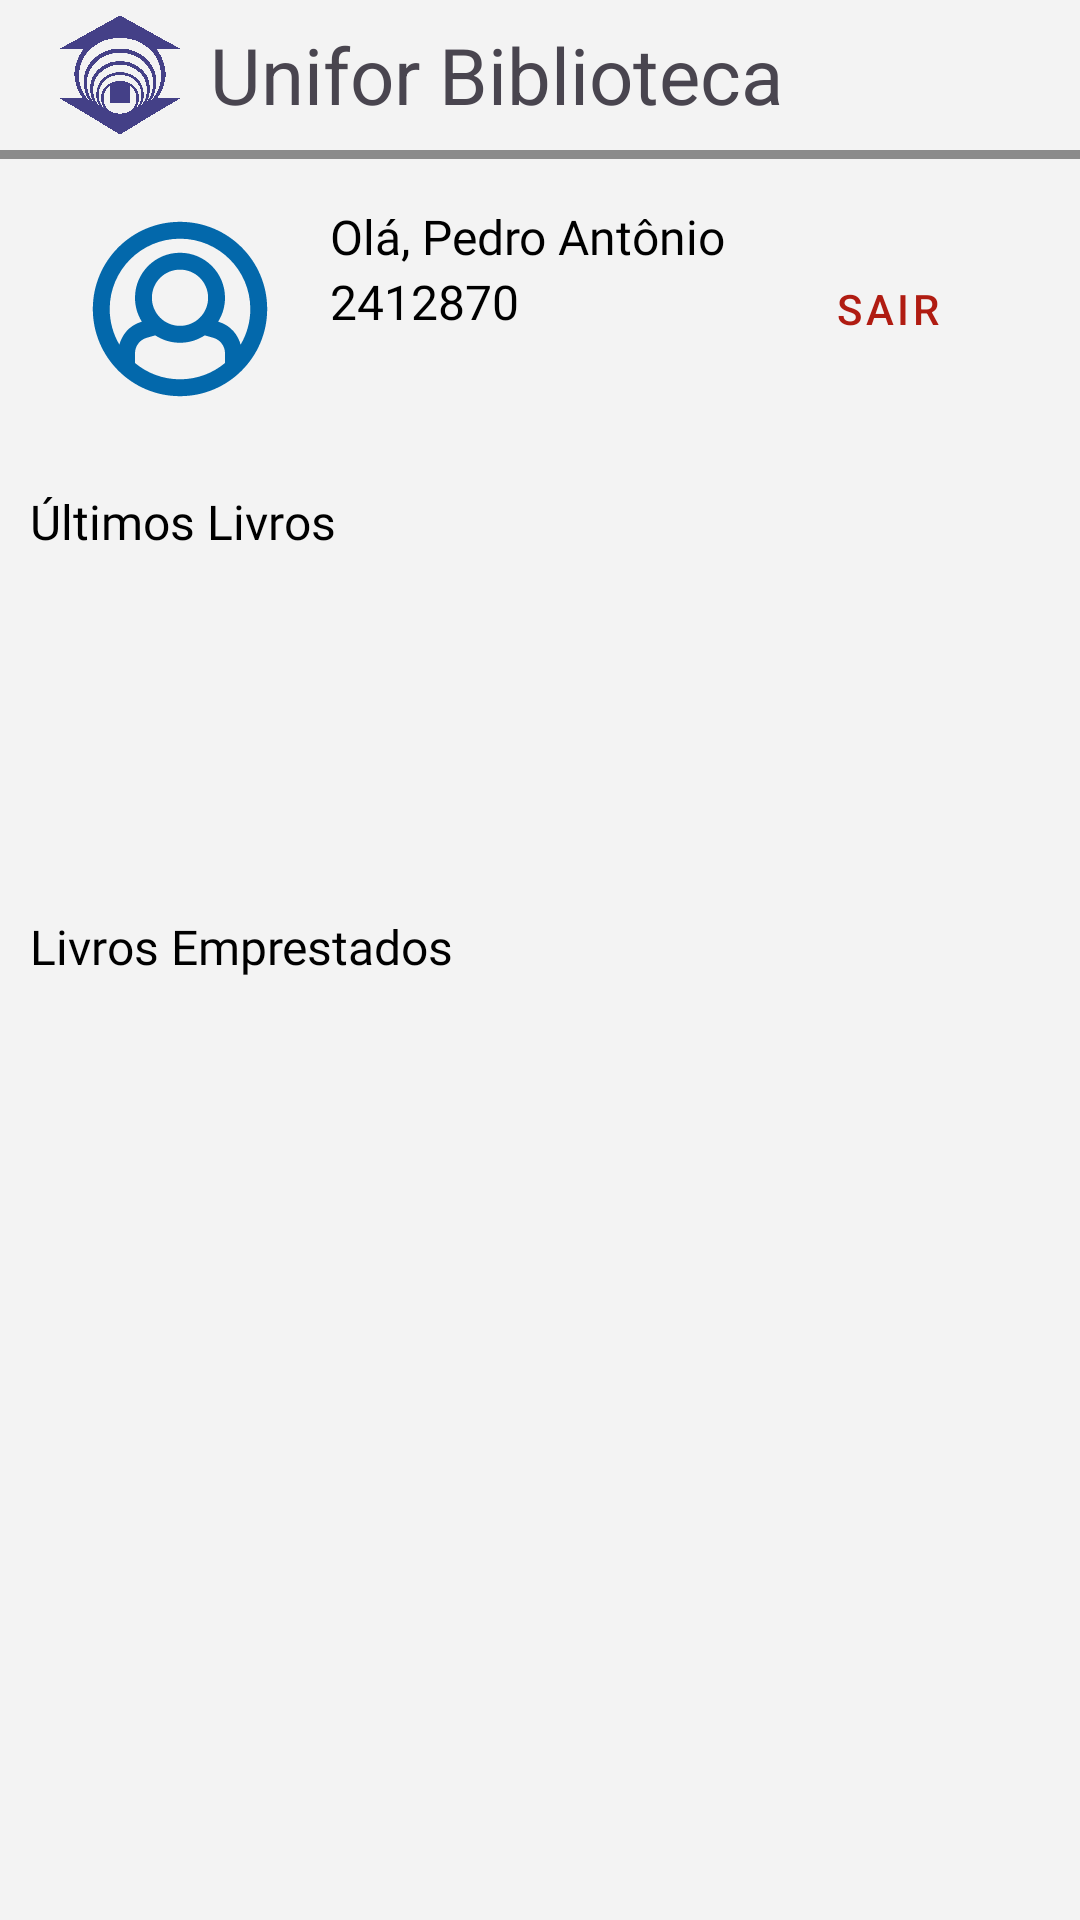

Icon bounding boxes for this 1080x1920 phone screenshot, format detection(x1, y1, x2, y2):
far user circle: detection(92, 221, 268, 397)
